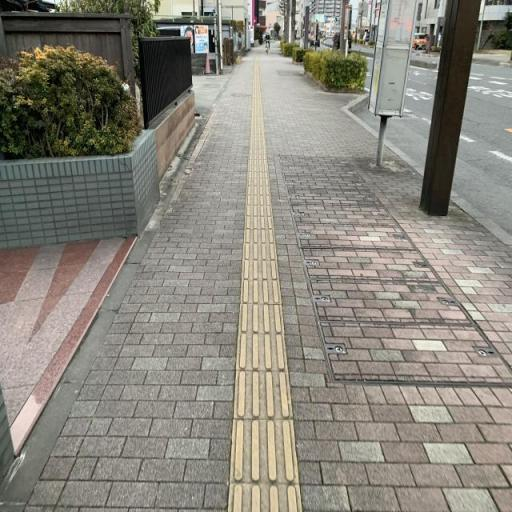line: (230, 418, 298, 485), (234, 369, 295, 420), (236, 333, 288, 371), (238, 303, 285, 335), (240, 279, 282, 304), (241, 260, 278, 280)
